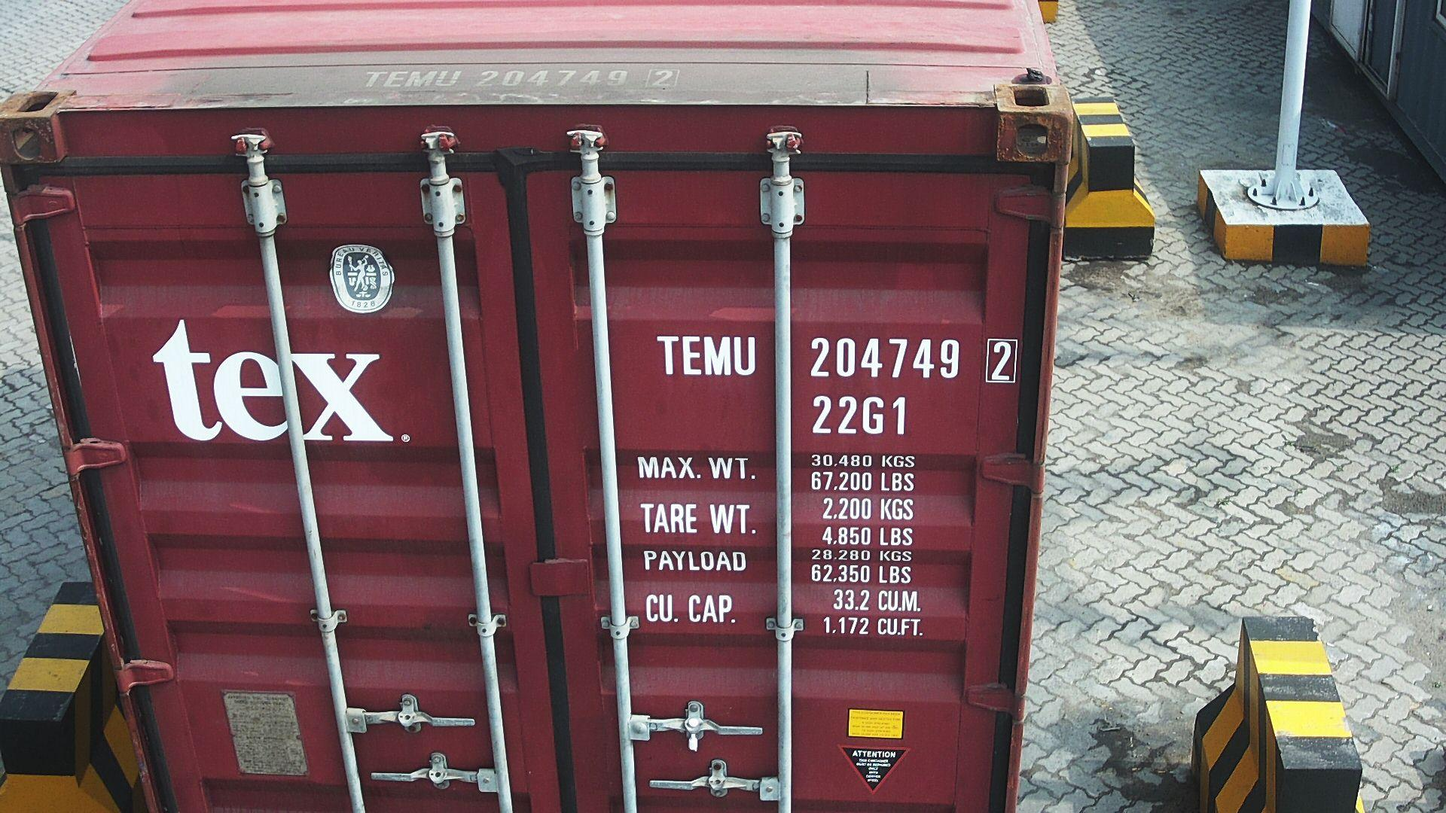container-numbers: (654, 330, 1022, 385), (356, 63, 688, 91), (807, 392, 910, 438)
